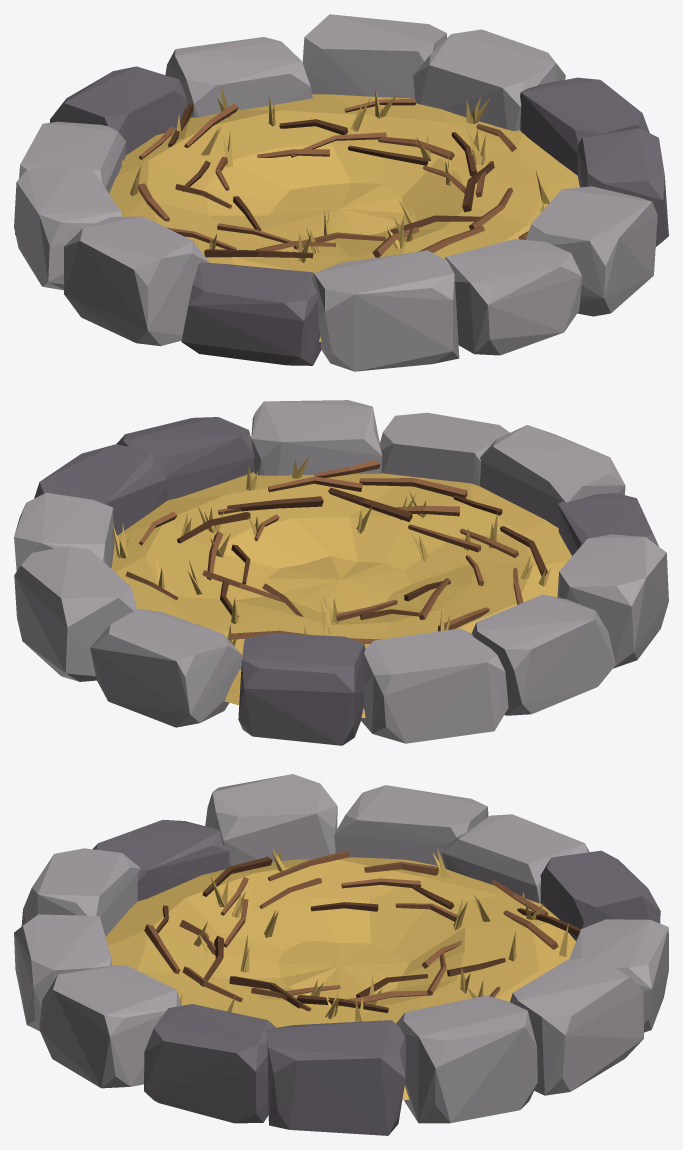
File: hatchery.glb
3 renders of one model, top to bottom at view 1: azimuth 30°, elevation 25°; view 2: azimuth 150°, elevation 25°; view 3: azimuth 270°, elevation 25°, orthographic.
Visible parts, largest first — view 1: hatchery; view 2: hatchery; view 3: hatchery.
Boxes of the visible parts, x1,y1,x2,y2 form: hatchery: [14, 14, 668, 371]; hatchery: [14, 400, 668, 745]; hatchery: [14, 774, 668, 1135].
Size of the model in its own units: 9.94 by 1.46 by 9.89.
